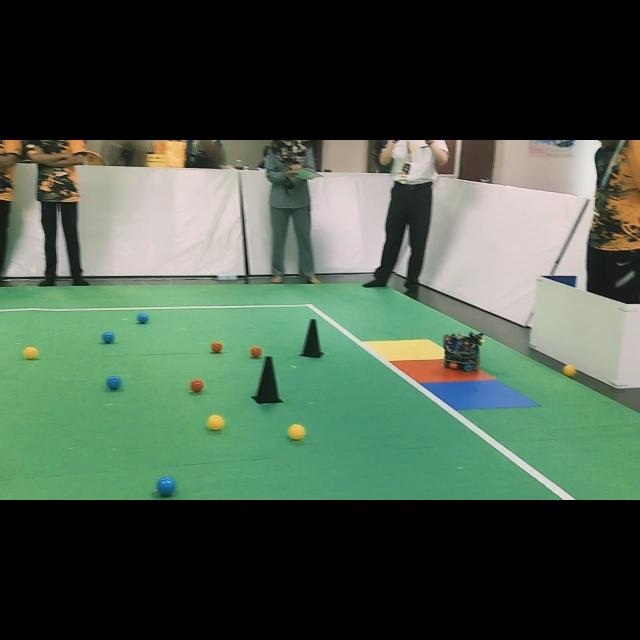ball: (156, 476, 176, 496), (289, 424, 306, 440), (208, 415, 225, 431), (24, 346, 39, 360), (106, 376, 121, 390), (562, 365, 578, 378), (190, 379, 205, 392), (101, 331, 115, 344), (211, 341, 224, 354), (250, 345, 262, 358), (136, 314, 149, 324)
goal: (422, 380, 539, 410), (391, 360, 495, 383), (365, 339, 444, 361)
